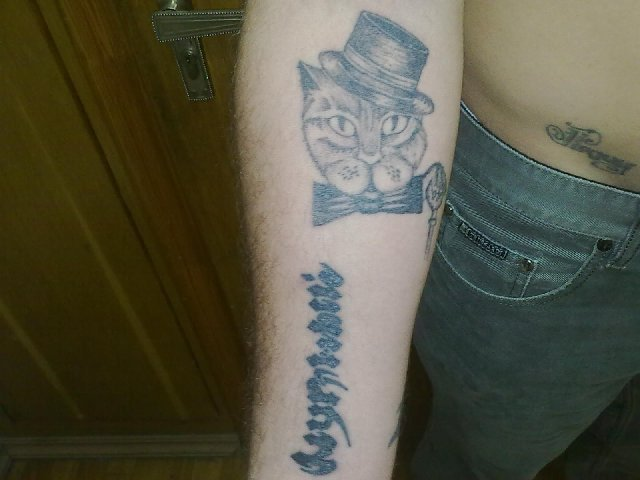tatu3_bukva: (296, 254, 354, 480), (541, 119, 640, 186)
tatu8_kot: (288, 9, 450, 234)
